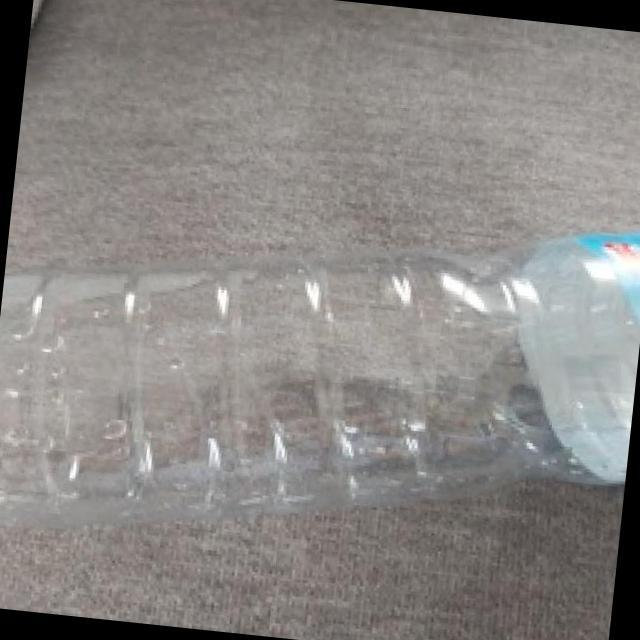good: (0, 154, 640, 606)
